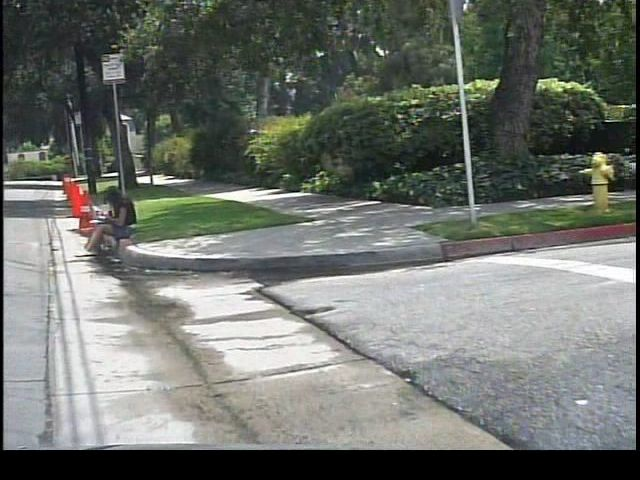person: (75, 184, 146, 260)
